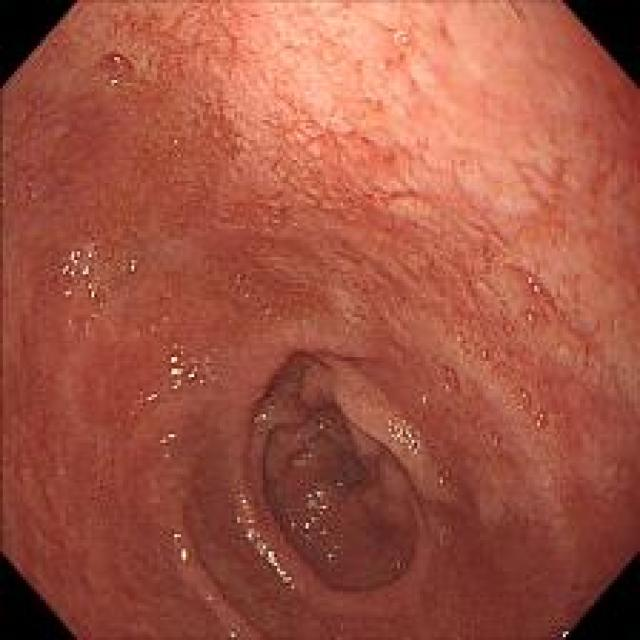bubbles: (50, 242, 112, 331), (496, 258, 559, 331), (85, 45, 136, 94), (509, 376, 549, 431), (431, 358, 466, 400), (179, 352, 206, 385), (430, 456, 454, 485)
specularity: (252, 541, 294, 585), (385, 418, 421, 455), (234, 494, 261, 541), (62, 246, 96, 279), (300, 488, 326, 528), (169, 521, 191, 566), (155, 420, 179, 459), (302, 525, 341, 539), (170, 350, 181, 391), (526, 274, 540, 294), (86, 282, 98, 300), (141, 391, 160, 402), (418, 394, 429, 410), (128, 260, 138, 276), (525, 310, 535, 325), (62, 286, 72, 300), (538, 408, 545, 426), (186, 371, 199, 380), (252, 414, 266, 421), (109, 78, 118, 88), (522, 391, 529, 401), (442, 384, 450, 392)
